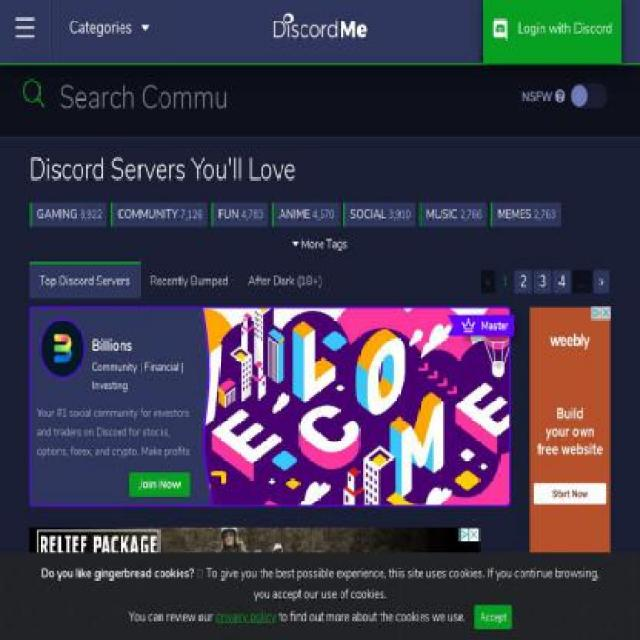button: (483, 0, 622, 63), (21, 97, 121, 145), (129, 97, 229, 145), (238, 97, 338, 145), (21, 152, 121, 200), (129, 152, 229, 200), (238, 152, 338, 200), (21, 320, 121, 368), (129, 320, 229, 368), (238, 320, 338, 368), (21, 375, 121, 423), (21, 41, 121, 88), (129, 41, 229, 88), (238, 41, 338, 88), (21, 209, 121, 256), (129, 209, 229, 256), (238, 209, 338, 256), (21, 264, 121, 311), (129, 264, 229, 311), (238, 264, 338, 311), (29, 262, 140, 298), (140, 262, 238, 298), (31, 449, 169, 474), (238, 262, 332, 298), (21, 0, 121, 32), (129, 0, 229, 32), (238, 0, 338, 32), (96, 295, 229, 319), (233, 295, 344, 319), (168, 325, 274, 350), (488, 387, 592, 411), (110, 202, 208, 227), (322, 356, 418, 381), (30, 233, 124, 258), (349, 325, 443, 350), (30, 387, 127, 411), (126, 233, 214, 258), (514, 419, 604, 443), (517, 264, 605, 288), (167, 356, 251, 381), (218, 233, 299, 258), (517, 325, 598, 350), (238, 264, 322, 288), (83, 264, 166, 288), (439, 233, 518, 258), (30, 202, 107, 227), (426, 295, 505, 319), (206, 387, 285, 411), (30, 356, 104, 381), (91, 325, 164, 350), (343, 202, 415, 227), (364, 233, 436, 258), (348, 295, 423, 319), (490, 202, 561, 227), (130, 387, 202, 411), (30, 419, 101, 443), (419, 202, 487, 227), (414, 387, 484, 411), (272, 202, 339, 227), (278, 325, 345, 350), (104, 419, 173, 443), (177, 419, 246, 443), (442, 419, 511, 443), (447, 325, 513, 350), (445, 264, 513, 288), (289, 387, 357, 411), (311, 419, 378, 443), (521, 233, 585, 258), (255, 356, 318, 381), (169, 264, 234, 288), (129, 472, 191, 497), (30, 295, 93, 319), (29, 325, 88, 350), (304, 233, 361, 258), (107, 356, 164, 381), (474, 356, 531, 381), (248, 419, 307, 443), (212, 202, 268, 227), (384, 264, 442, 288), (325, 264, 381, 288), (382, 419, 438, 443), (422, 356, 470, 381), (30, 264, 79, 288), (362, 387, 409, 411), (508, 295, 550, 319), (92, 334, 132, 358), (474, 605, 512, 629), (461, 318, 508, 332), (198, 620, 244, 634), (32, 620, 77, 634), (365, 620, 410, 634), (572, 270, 592, 293), (533, 270, 552, 293), (552, 270, 571, 293), (514, 270, 532, 293), (497, 272, 512, 291)
field: (50, 75, 365, 120)
